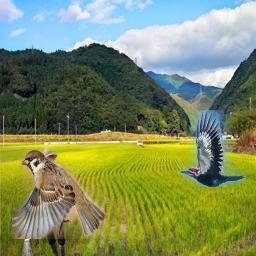Sparrow: (12, 150, 105, 239)
Woodpecker: (180, 110, 246, 187)
